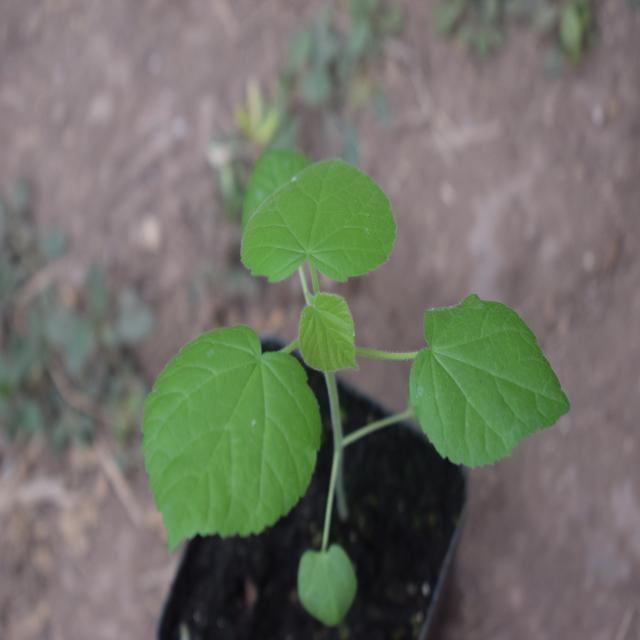abutilon theophrasti: (154, 158, 522, 585)
